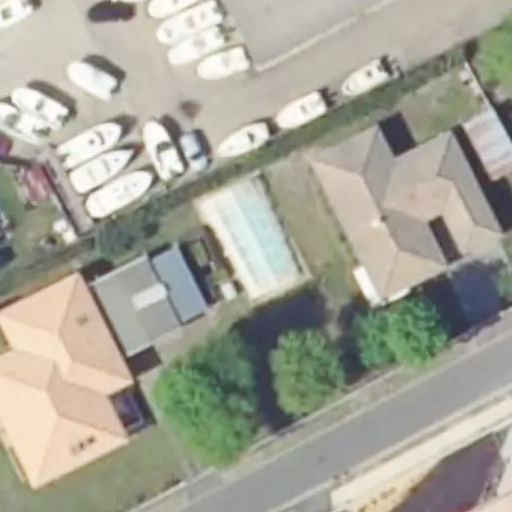pool: (210, 187, 299, 287)
